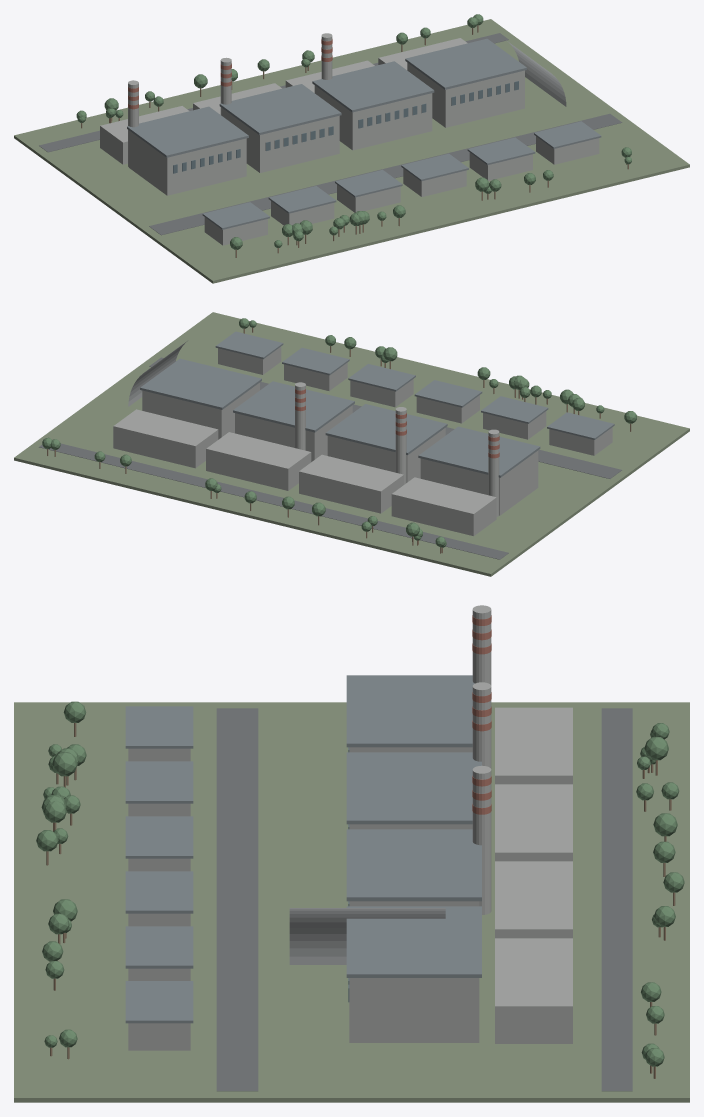
File: chernobyl_game_complex.glb
3 views of the same model, one above another, from view 1: azimuth 30°, elevation 25°; view 2: azimuth 150°, elevation 25°; view 3: azimuth 270°, elevation 25° (orthographic). The views are drawn at different scales.
Visible parts, largest first — view 1: terrain, hall0, hall2, hall1, hall3, roof3, roof1, roof2, roof0, road, annex0, warehouse_roof4 (+19 smaller); view 2: terrain, annex0, annex3, annex2, annex1, road_back, roof3, roof0, roof1, roof2, hall0, hall3 (+19 smaller); view 3: terrain, road, road_back, roof2, roof1, roof0, roof3, hall3, annex3, annex0, annex1, annex2 (+19 smaller).
Part boxes in pixels (x1=…): terrain: x1=14, y1=19, x2=689, y2=283; hall0: x1=129, y1=130, x2=246, y2=195; hall2: x1=314, y1=85, x2=432, y2=150; hall1: x1=221, y1=108, x2=339, y2=172; hall3: x1=407, y1=62, x2=524, y2=127; roof3: x1=405, y1=38, x2=526, y2=89; roof1: x1=219, y1=84, x2=341, y2=134; roof2: x1=312, y1=61, x2=434, y2=112; roof0: x1=127, y1=106, x2=248, y2=157; road: x1=149, y1=113, x2=622, y2=235; annex0: x1=100, y1=106, x2=189, y2=164; warehouse_roof4: x1=467, y1=137, x2=535, y2=165; terrain: x1=14, y1=312, x2=689, y2=576; annex0: x1=391, y1=477, x2=496, y2=536; annex3: x1=113, y1=409, x2=218, y2=468; annex2: x1=206, y1=432, x2=311, y2=490; annex1: x1=299, y1=454, x2=403, y2=513; road_back: x1=39, y1=443, x2=508, y2=559; roof3: x1=140, y1=358, x2=261, y2=409; roof0: x1=418, y1=426, x2=540, y2=477; roof1: x1=325, y1=404, x2=447, y2=454; roof2: x1=233, y1=381, x2=354, y2=432; hall0: x1=420, y1=450, x2=538, y2=515; hall3: x1=142, y1=382, x2=259, y2=439; terrain: x1=14, y1=702, x2=689, y2=1102; road: x1=216, y1=708, x2=258, y2=1091; road_back: x1=601, y1=708, x2=632, y2=1091; roof2: x1=346, y1=829, x2=481, y2=901; roof1: x1=346, y1=752, x2=481, y2=824; roof0: x1=346, y1=675, x2=474, y2=747; roof3: x1=346, y1=906, x2=481, y2=977; hall3: x1=349, y1=978, x2=479, y2=1042; annex3: x1=495, y1=938, x2=572, y2=1043; annex0: x1=495, y1=707, x2=572, y2=784; annex1: x1=495, y1=784, x2=572, y2=861; annex2: x1=495, y1=861, x2=572, y2=938.
Size of the model in its own units: 180 by 31 by 130.
